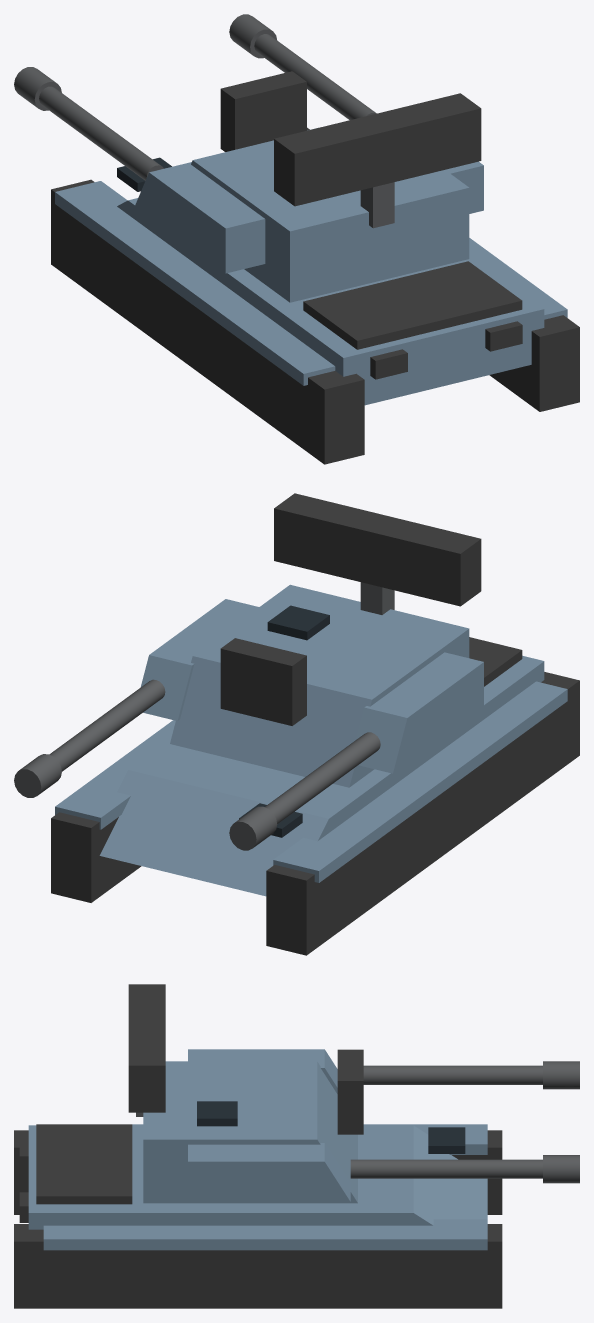
The picture shows the model from 3 angles, top to bottom: view 1: azimuth 30°, elevation 25°; view 2: azimuth 150°, elevation 25°; view 3: azimuth 270°, elevation 25°; orthographic projection. The views are drawn at different scales.
Visible parts, largest first — view 1: AaHull, AaTurret; view 2: AaTurret, AaHull; view 3: AaHull, AaTurret.
Boxes of the visible parts, x1=… form: AaHull: x1=51, y1=127, x2=579, y2=464; AaTurret: x1=14, y1=14, x2=483, y2=302; AaTurret: x1=14, y1=493, x2=483, y2=850; AaHull: x1=51, y1=637, x2=579, y2=955; AaHull: x1=14, y1=1124, x2=502, y2=1308; AaTurret: x1=128, y1=984, x2=579, y2=1203.
Bounding box in the file's own units: 3.68 × 3.4 × 7.65.
